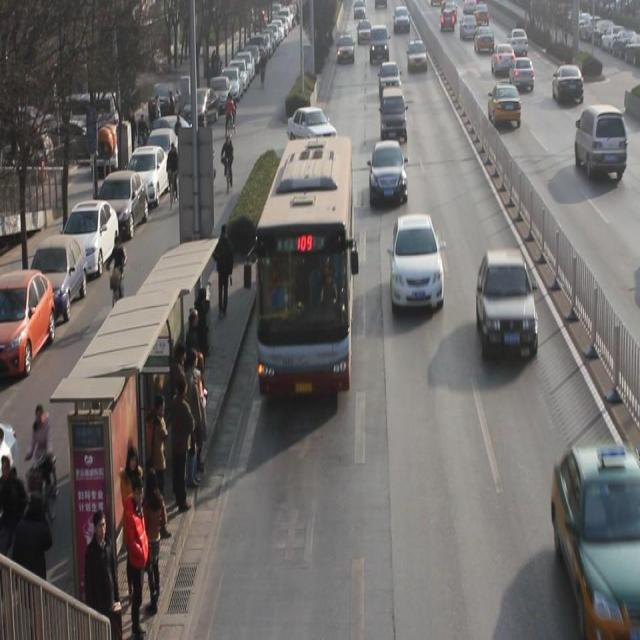car: (552, 442, 640, 625), (475, 247, 539, 356), (391, 212, 445, 308), (369, 138, 409, 202), (288, 104, 338, 146), (488, 77, 521, 124), (552, 62, 584, 103), (491, 40, 515, 75), (510, 55, 534, 88), (408, 37, 428, 71), (474, 21, 495, 51), (507, 27, 529, 55), (379, 60, 401, 87), (337, 32, 355, 64)
truck: (574, 102, 628, 179), (380, 85, 407, 140), (370, 23, 389, 62)
van: (258, 138, 350, 393)
